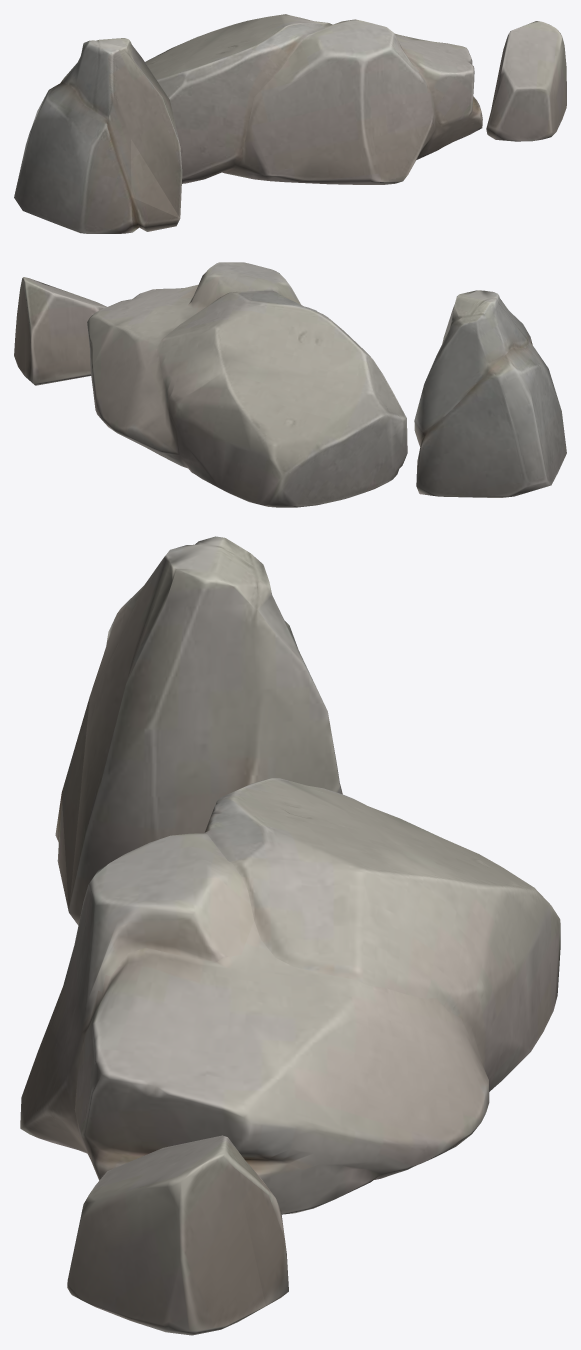
File: rock.glb
3 renders of one model, top to bottom at view 1: azimuth 30°, elevation 25°; view 2: azimuth 150°, elevation 25°; view 3: azimuth 270°, elevation 25°, orthographic. The views are drawn at different scales.
Visible parts, largest first — view 1: SM_Rocks_03, SM_Rocks_05, SM_Rocks_02; view 2: SM_Rocks_03, SM_Rocks_05, SM_Rocks_02; view 3: SM_Rocks_03, SM_Rocks_05, SM_Rocks_02.
Boxes of the visible parts, x1,y1,x2,y2 form: SM_Rocks_03: [145, 14, 482, 184]; SM_Rocks_05: [14, 38, 182, 233]; SM_Rocks_02: [486, 21, 566, 141]; SM_Rocks_03: [87, 262, 407, 507]; SM_Rocks_05: [414, 290, 566, 497]; SM_Rocks_02: [14, 277, 106, 385]; SM_Rocks_03: [20, 778, 560, 1214]; SM_Rocks_05: [55, 536, 342, 925]; SM_Rocks_02: [67, 1135, 288, 1335].
Size of the model in its own units: 3.65 by 1.14 by 1.61.
Materials: 1 (1 with a texture image).
